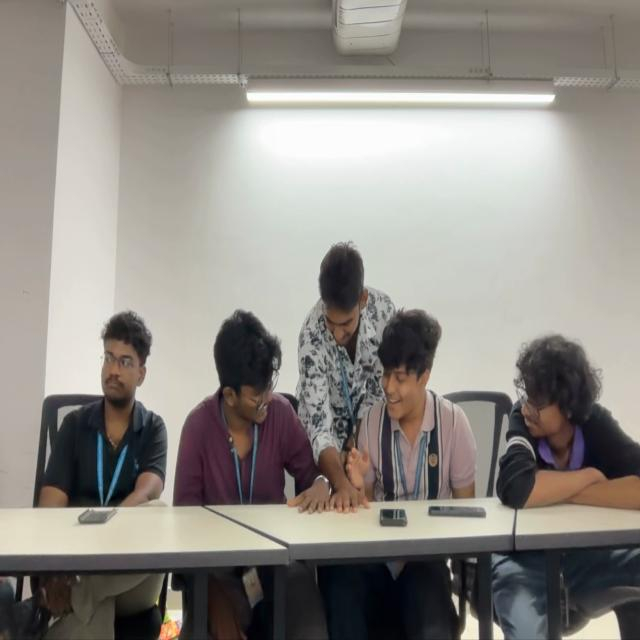Isolated: (496, 334, 640, 506), (38, 310, 166, 500)
socializing: (176, 239, 476, 505)
